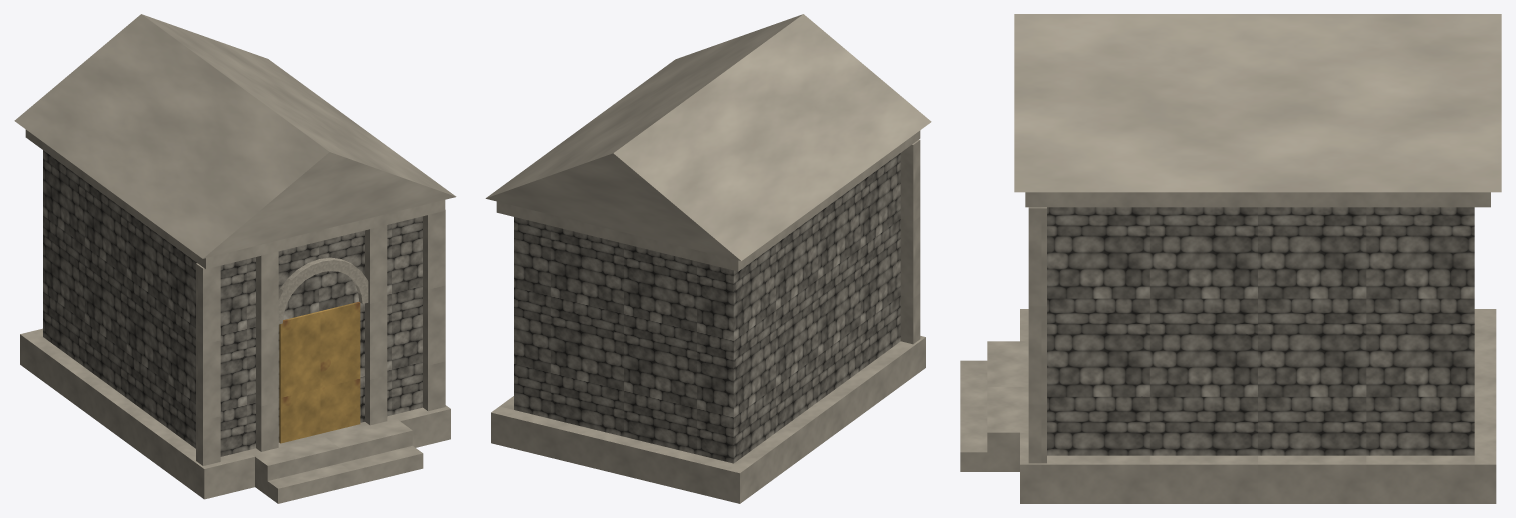
File: Mausoleum_Small_1.gltf
The picture shows the model from 3 angles, left to right: view 1: azimuth 30°, elevation 25°; view 2: azimuth 150°, elevation 25°; view 3: azimuth 270°, elevation 25°; orthographic projection. The views are drawn at different scales.
Visible parts, largest first — view 1: Mausoleum_Small_1; view 2: Mausoleum_Small_1; view 3: Mausoleum_Small_1.
Boxes of the visible parts, left/top/right/bottom form: Mausoleum_Small_1: left=14, top=14, right=456, bottom=503; Mausoleum_Small_1: left=485, top=14, right=931, bottom=503; Mausoleum_Small_1: left=960, top=14, right=1501, bottom=503.
Size of the model in its own units: 3.5 by 4.2 by 5.
3 materials, 3 textured.
